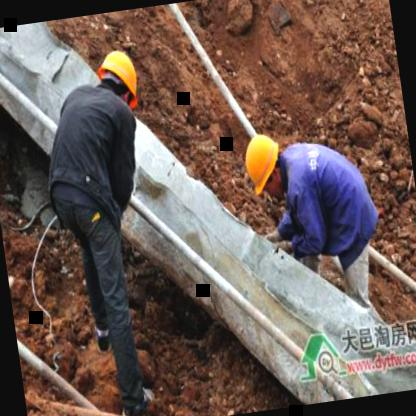helmet: (235, 124, 294, 208), (93, 42, 144, 114)
